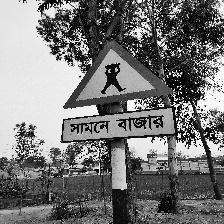Market-in-front: (61, 38, 177, 144)
